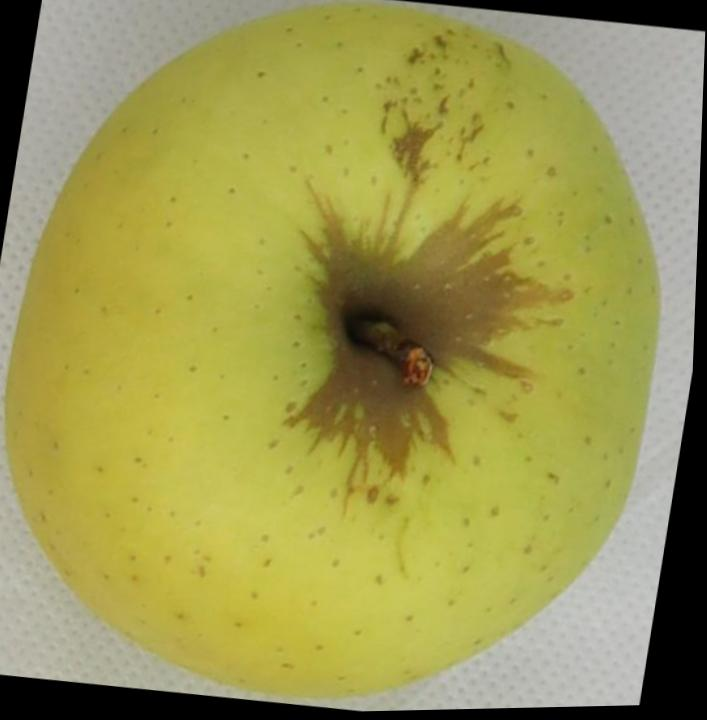apple: (7, 4, 659, 696)
bruise_discoloration: (287, 183, 573, 476)
